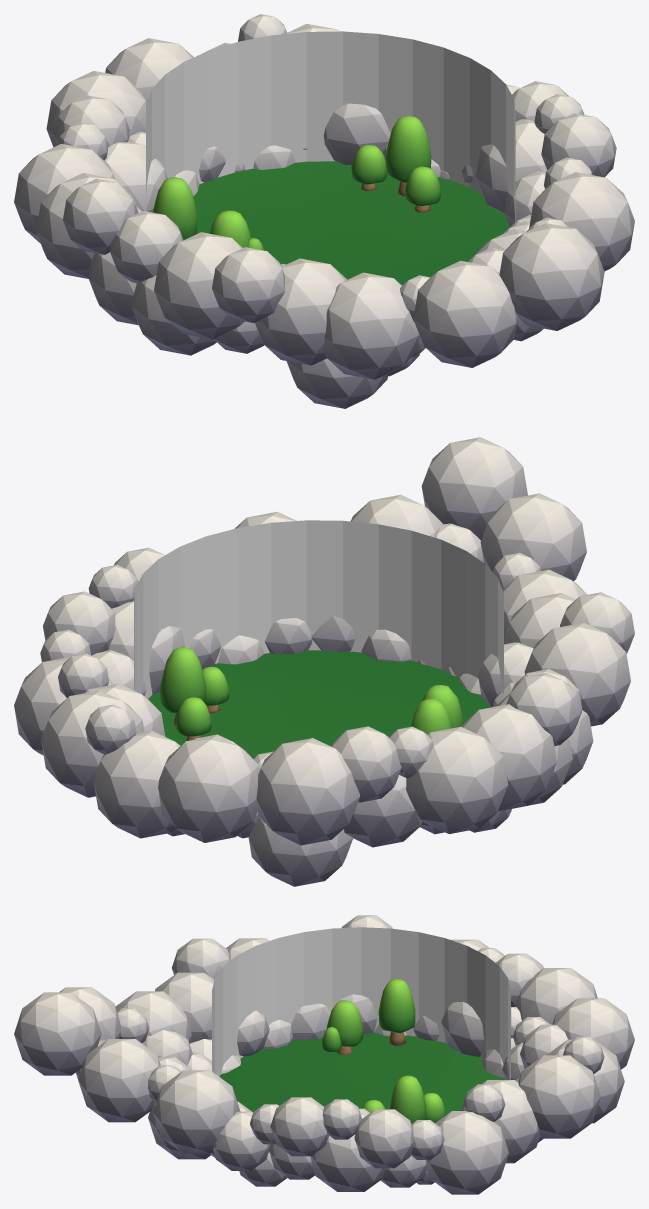
File: mice_env.glb
3 renders of one model, top to bottom at view 1: azimuth 30°, elevation 25°; view 2: azimuth 150°, elevation 25°; view 3: azimuth 270°, elevation 25°, orthographic. The views are drawn at different scales.
Visible parts, largest first — view 1: Arena, Ground, Cloud.059, Cloud.061, Cloud.055, Cloud.028, Cloud.029, Cloud.045, Cloud.030, Cloud.027, Cloud.024, Cloud.026 (+26 smaller); view 2: Arena, Ground, Cloud.036, Cloud.031, Cloud.024, Cloud.061, Cloud.059, Cloud.028, Cloud.035, Cloud.025, Cloud.039, Cloud.004 (+33 smaller); view 3: Arena, Ground, Cloud.061, Cloud.045, Cloud.053, Cloud.039, Cloud.040, Cloud.036, Cloud.043, Cloud.031, Cloud.002, Cloud.048 (+37 smaller).
Boxes of the visible parts, bbox=[...] form: Arena: bbox=[146, 31, 515, 222]; Ground: bbox=[193, 161, 509, 285]; Cloud.059: bbox=[413, 260, 517, 367]; Cloud.061: bbox=[499, 224, 604, 330]; Cloud.055: bbox=[324, 272, 419, 379]; Cloud.028: bbox=[154, 232, 244, 339]; Cloud.029: bbox=[255, 258, 347, 365]; Cloud.045: bbox=[529, 172, 634, 271]; Cloud.030: bbox=[212, 247, 284, 323]; Cloud.027: bbox=[63, 178, 137, 254]; Cloud.024: bbox=[14, 144, 114, 243]; Cloud.026: bbox=[110, 211, 183, 283]; Arena: bbox=[134, 520, 503, 698]; Ground: bbox=[148, 650, 490, 758]; Cloud.036: bbox=[158, 735, 259, 842]; Cloud.031: bbox=[256, 738, 359, 845]; Cloud.024: bbox=[406, 726, 508, 833]; Cloud.061: bbox=[421, 437, 527, 540]; Cloud.059: bbox=[480, 493, 586, 581]; Cloud.028: bbox=[524, 622, 630, 726]; Cloud.035: bbox=[93, 731, 180, 838]; Cloud.025: bbox=[461, 704, 556, 811]; Cloud.039: bbox=[41, 690, 144, 797]; Cloud.004: bbox=[248, 817, 353, 886]; Arena: bbox=[212, 927, 510, 1079]; Ground: bbox=[220, 1032, 505, 1114]; Cloud.061: bbox=[14, 992, 101, 1075]; Cloud.045: bbox=[153, 1070, 240, 1153]; Cloud.053: bbox=[78, 1039, 160, 1122]; Cloud.039: bbox=[518, 1055, 600, 1138]; Cloud.040: bbox=[426, 1111, 508, 1194]; Cloud.036: bbox=[552, 998, 634, 1069]; Cloud.043: bbox=[354, 1109, 413, 1168]; Cloud.031: bbox=[515, 968, 597, 1024]; Cloud.002: bbox=[310, 1108, 385, 1191]; Cloud.048: bbox=[270, 1097, 328, 1156].
Size of the model in its own units: 466 by 185 by 605.
6 materials, 6 textured.
